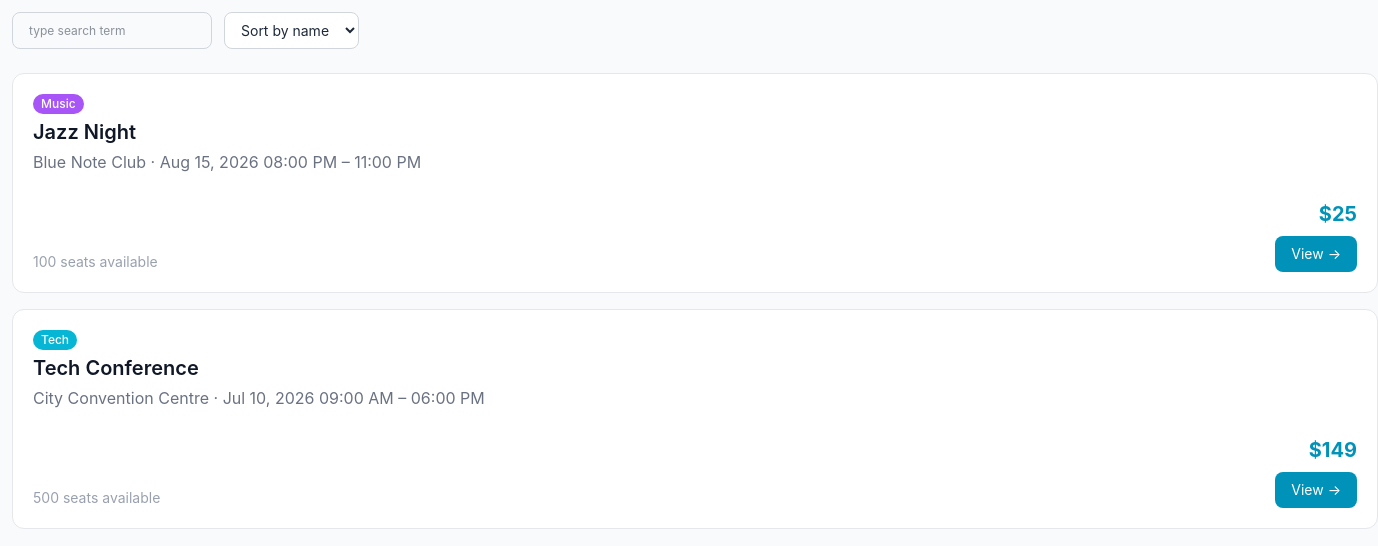
Test: filters events by search term
Check: the link "Jazz Night" is shown, box x1=33 y1=120 x2=136 y2=144
Type "jazz" into the field with placeholder "type search term" at (112, 30), box x1=12 y1=12 x2=212 y2=49
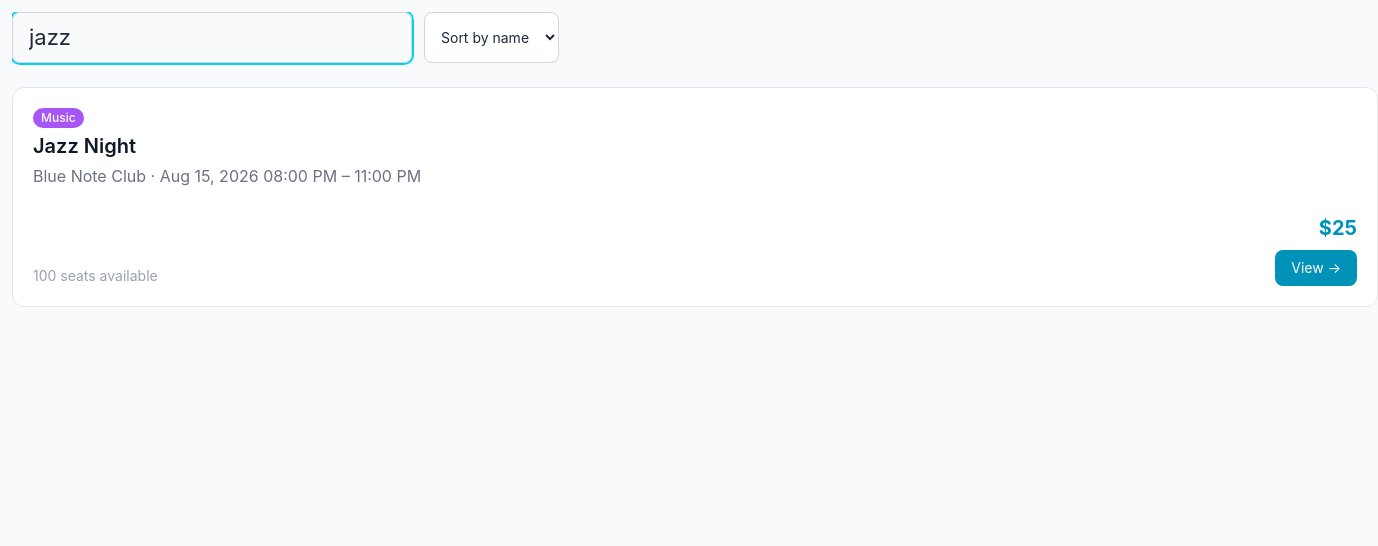
Check: the link "Jazz Night" is shown, box x1=33 y1=134 x2=136 y2=158
Check: the link "Tech Conference" is gone
